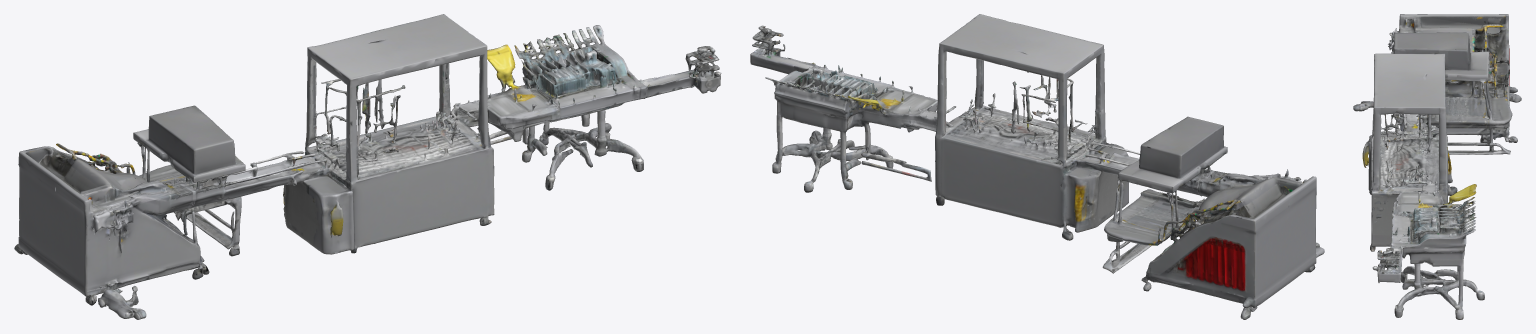
File: Automated_Bottling.glb
3 views of the same model, side by side, from view 1: azimuth 30°, elevation 25°; view 2: azimuth 150°, elevation 25°; view 3: azimuth 270°, elevation 25° (orthographic). The views are drawn at different scales.
Size of the model in its own units: 2 by 0.5479 by 0.5784.
Materials: 1 (1 with a texture image).
